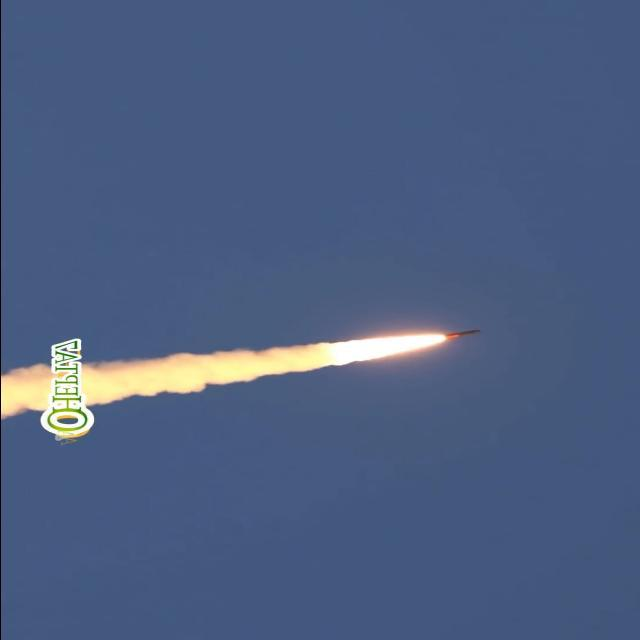Missile: (426, 326, 494, 339)
